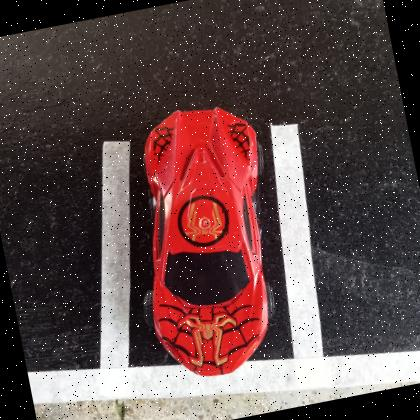Car: (144, 108, 269, 378)
